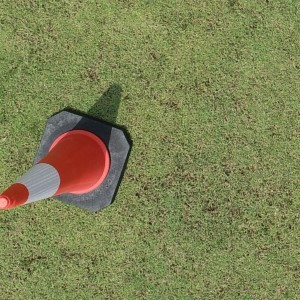traffic cone: (1, 111, 130, 213)
